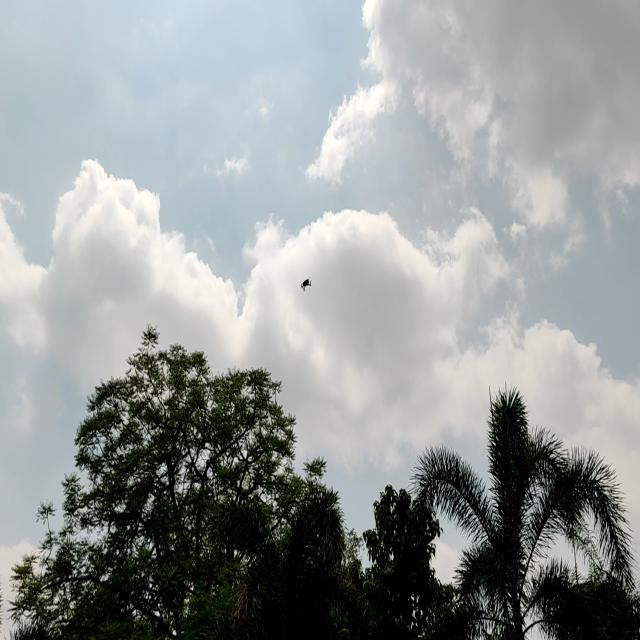drone: (293, 269, 314, 300)
